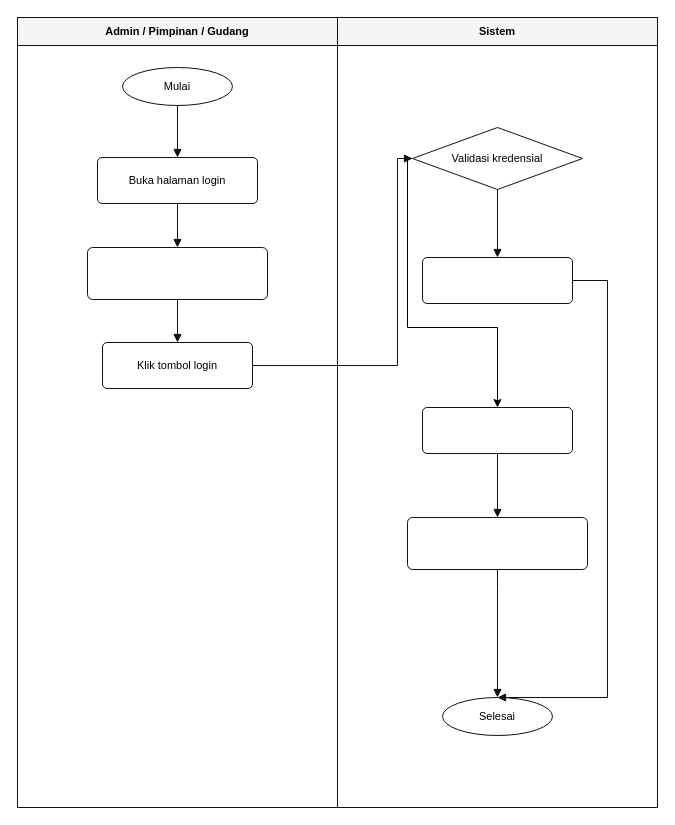
Some shapes in this 675 by 825 pixel diagram are drawn without their labels. Here are the shapes that lost their labels. From the top down, the box of each, then its label:
(86, 246, 268, 300): Masukkan username dan password
(422, 256, 572, 304): Tampilkan pesan kesalahan
(422, 406, 572, 454): Buat sesi login
(406, 516, 588, 570): Arahkan ke dashboard sesuai role
